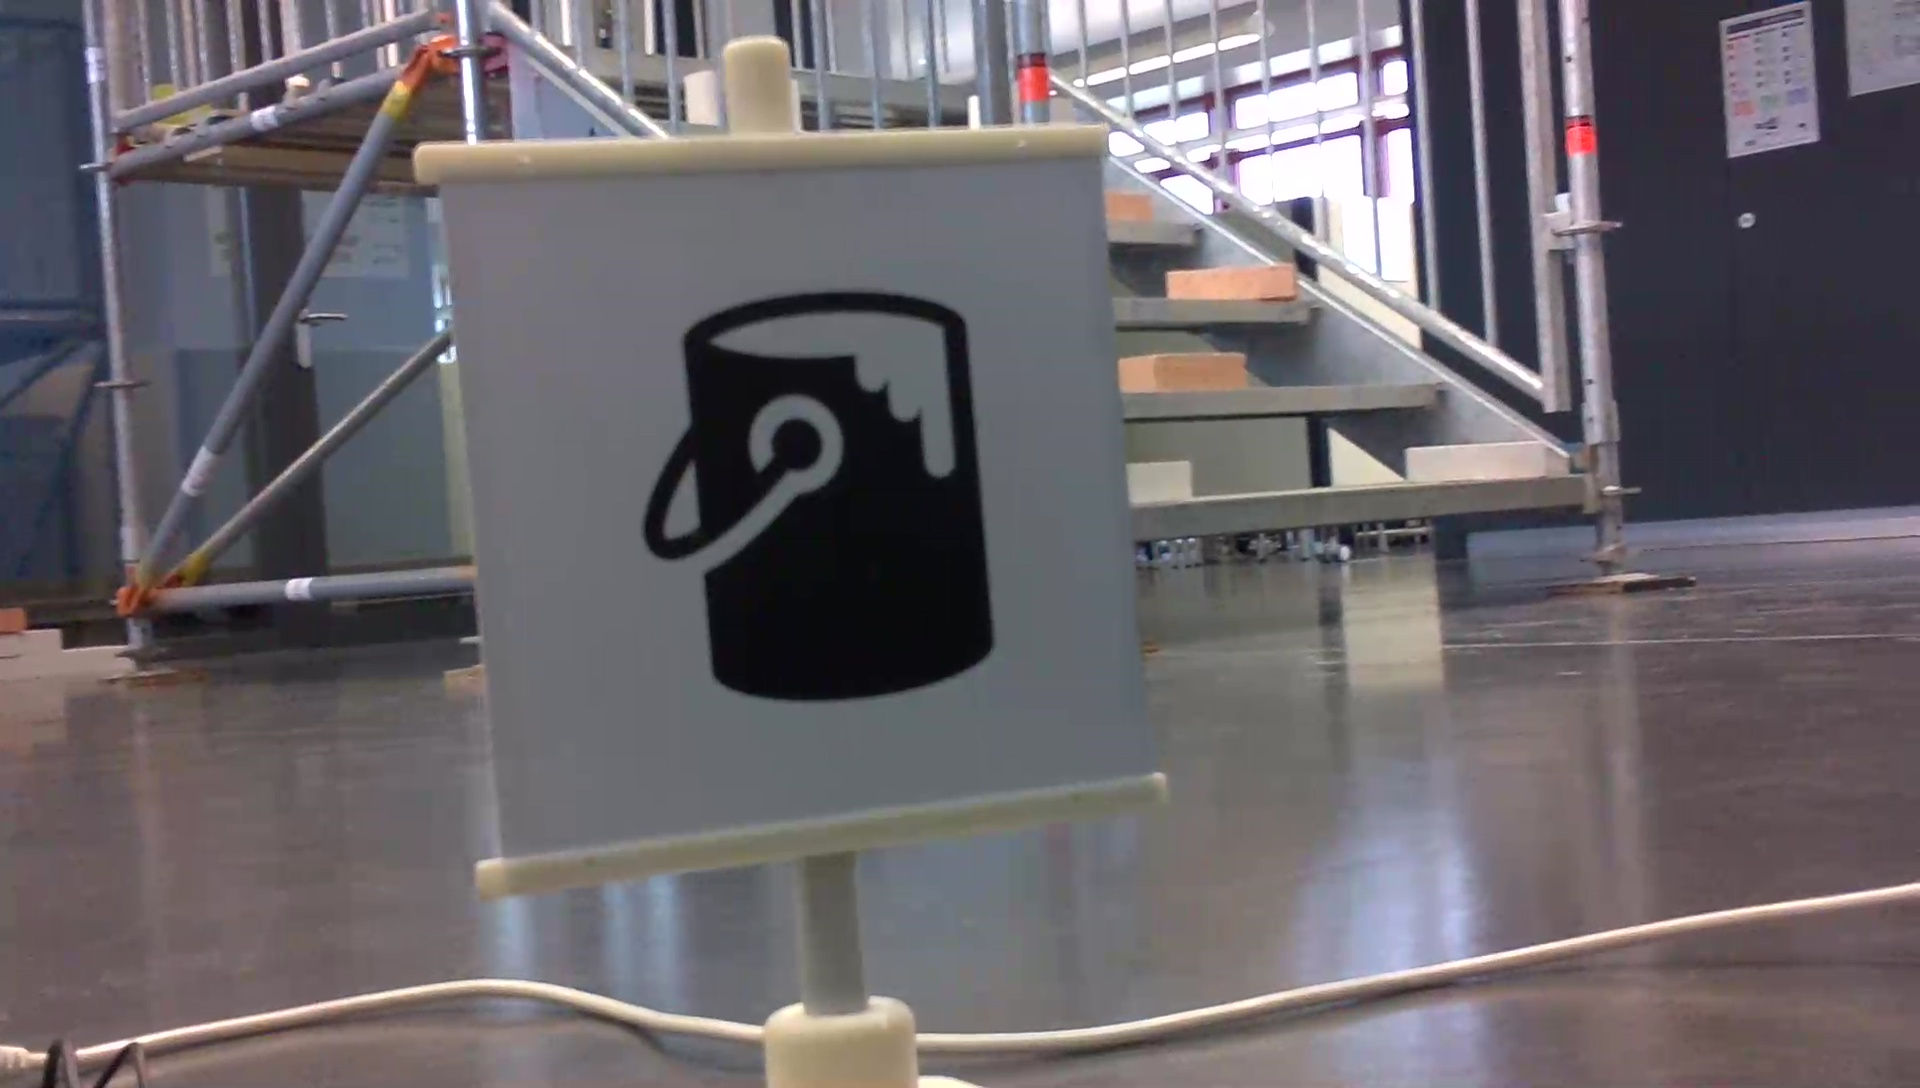brick: (1408, 444, 1542, 480), (1117, 355, 1242, 390), (1168, 265, 1294, 299), (1127, 460, 1188, 502), (1106, 190, 1147, 223)
bucket: (633, 285, 1005, 712)
edge: (1138, 477, 1585, 533), (1120, 377, 1452, 415), (1112, 298, 1323, 320), (1102, 220, 1208, 245)
